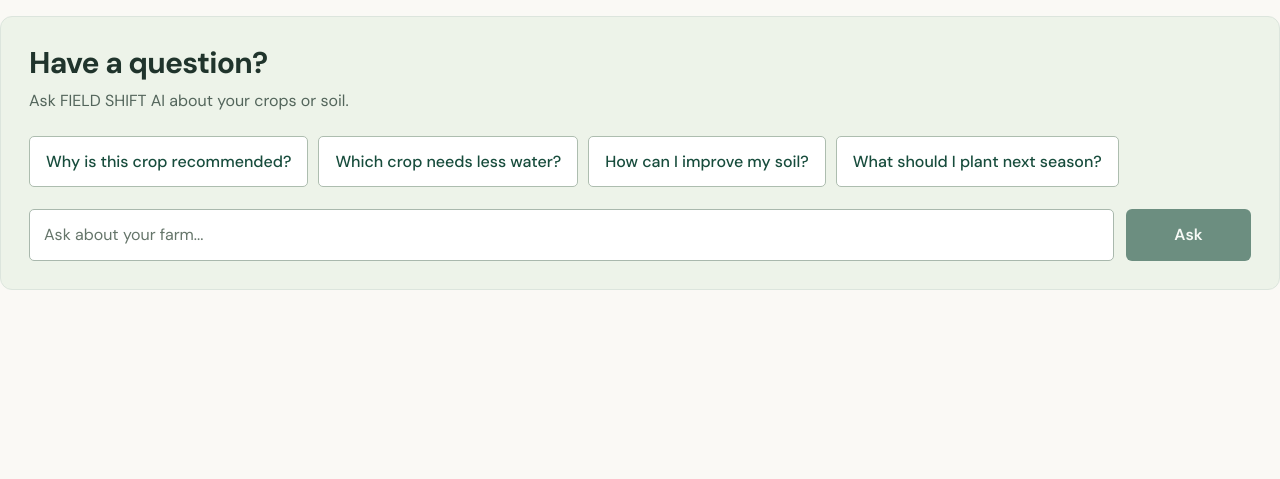
Test case: answers unrelated and unclear questions immediately without claiming a failure
Type "Who won the football match yesterday?" into the field labelled "Ask about your farm" at (572, 235), box [29, 209, 1114, 261]
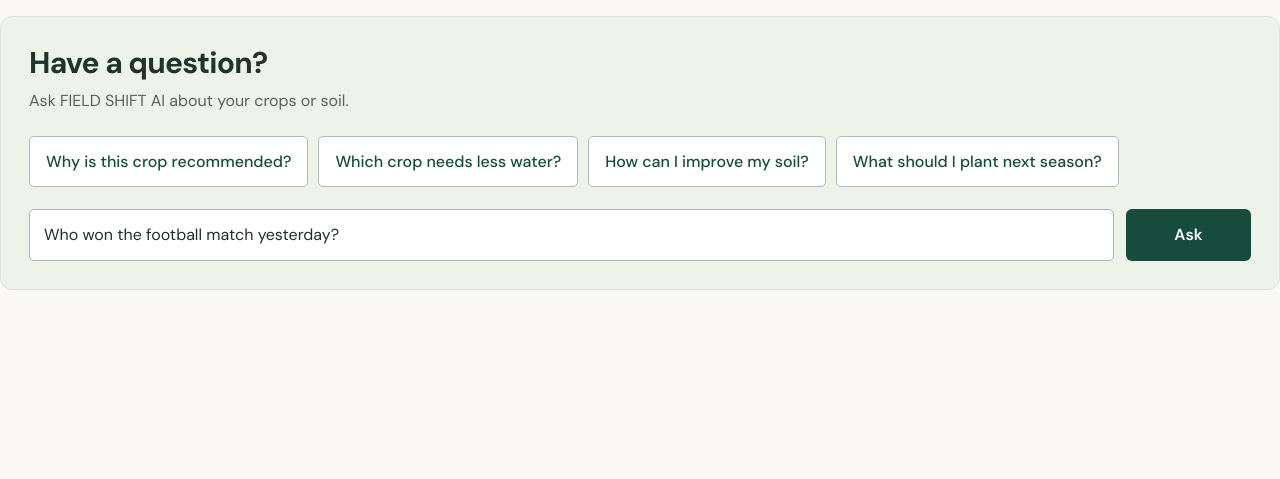
Click the button "Ask" at (1188, 235), box [1126, 209, 1251, 261]
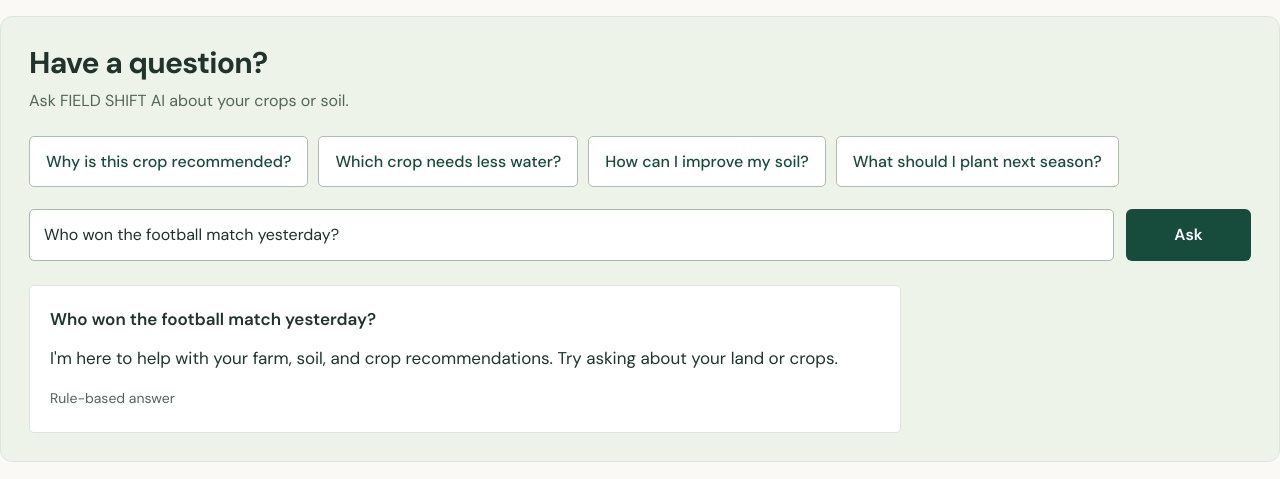
Replace the text in the field named "Ask about your farm" with "What is this?" at (572, 235), box [29, 209, 1114, 261]
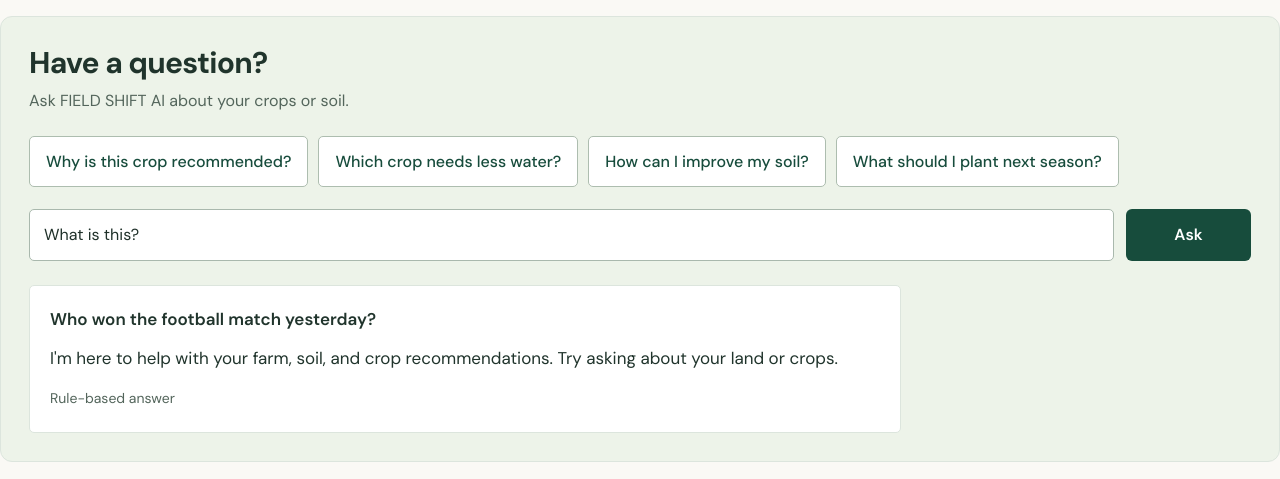
Click the button "Ask" at (1188, 235), box [1126, 209, 1251, 261]
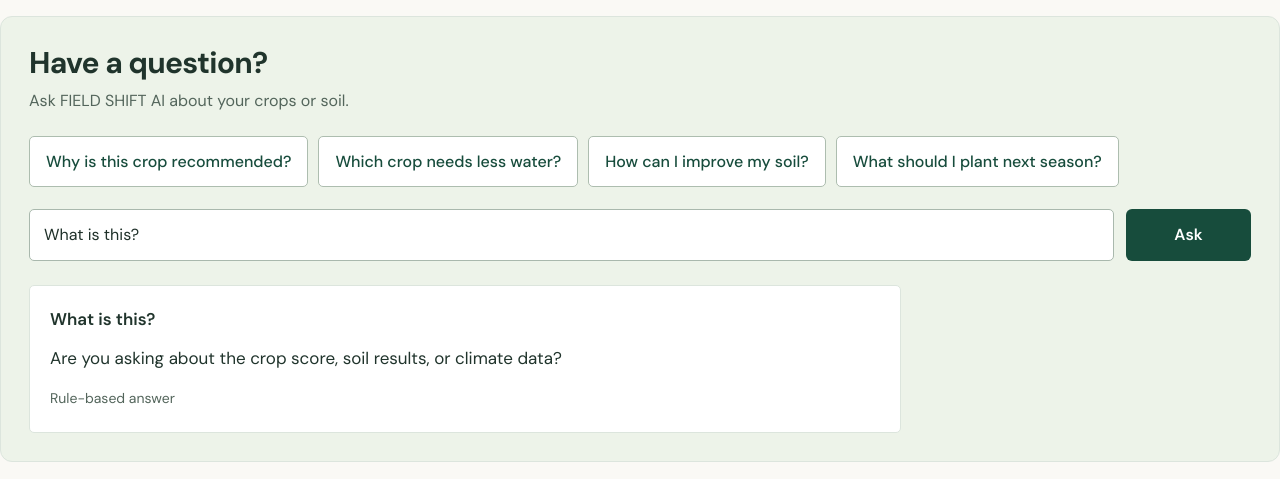
Check: the text "Are you asking about the crop score" is shown, box [50, 347, 562, 369]
